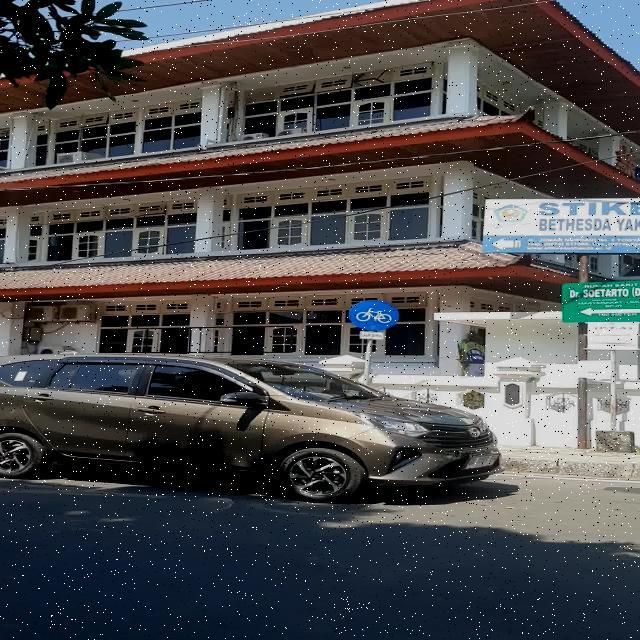Jalur Sepeda: (348, 300, 399, 331)
